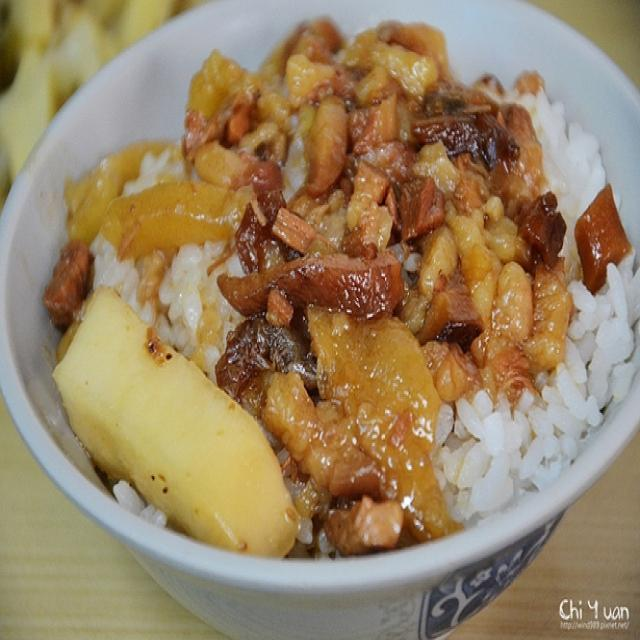猪肉菜式: (25, 24, 630, 578)
